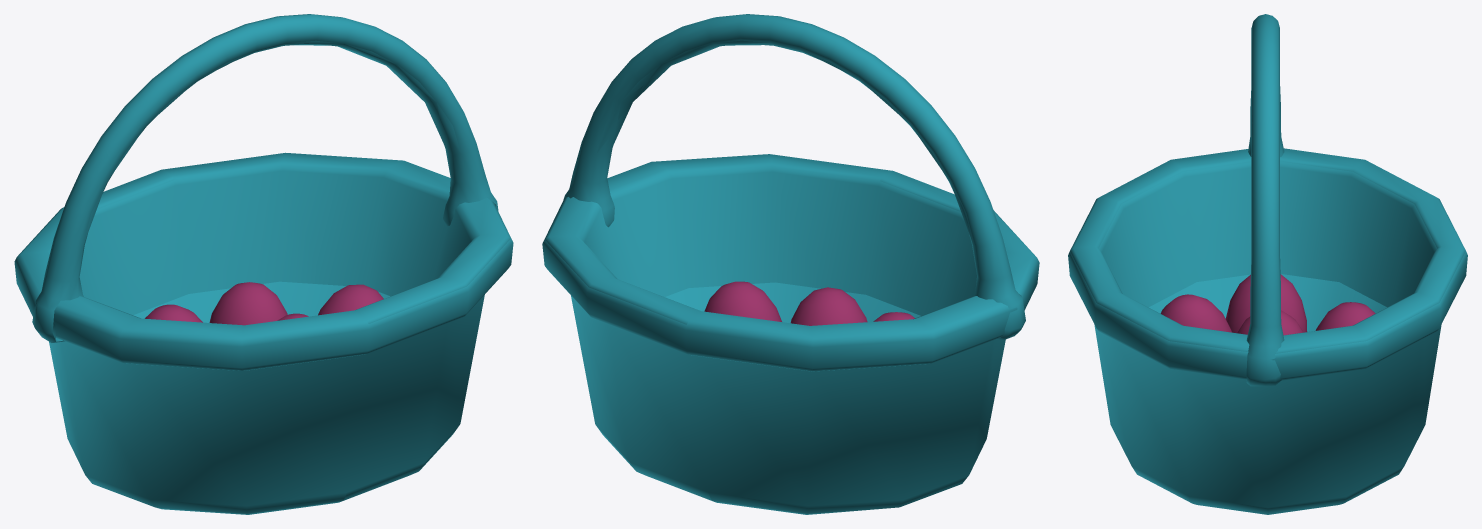
Rendered from EggsBasket_LOD.FBX.
3 views of the same model, side by side, from view 1: azimuth 30°, elevation 25°; view 2: azimuth 150°, elevation 25°; view 3: azimuth 270°, elevation 25° (orthographic). The views are drawn at different scales.
Parts seen in each view (by area): view 1: Basket (×3), Handle (×2), Egg03 (×2), Egg04; view 2: Basket (×3), Handle (×2), Egg06 (×2), Egg05 (×2); view 3: Basket (×3), Handle, Egg01, Egg07, Egg02.
Part boxes in pixels (left/top/right/bottom): Basket (×3): left=14, top=153, right=513, bottom=514; Handle (×2): left=32, top=14, right=498, bottom=342; Egg03 (×2): left=209, top=282, right=287, bottom=325; Egg04: left=318, top=285, right=367, bottom=315; Basket (×3): left=542, top=154, right=1039, bottom=514; Handle (×2): left=563, top=14, right=1025, bottom=339; Egg06 (×2): left=790, top=287, right=867, bottom=325; Egg05 (×2): left=704, top=281, right=781, bottom=321; Basket (×3): left=1068, top=148, right=1467, bottom=514; Handle: left=1246, top=14, right=1284, bottom=386; Egg01: left=1225, top=276, right=1307, bottom=333; Egg07: left=1161, top=295, right=1231, bottom=332; Egg02: left=1315, top=303, right=1372, bottom=330.
Size of what is drawn, in the model's own units: 0.352 by 0.3124 by 0.2796.
